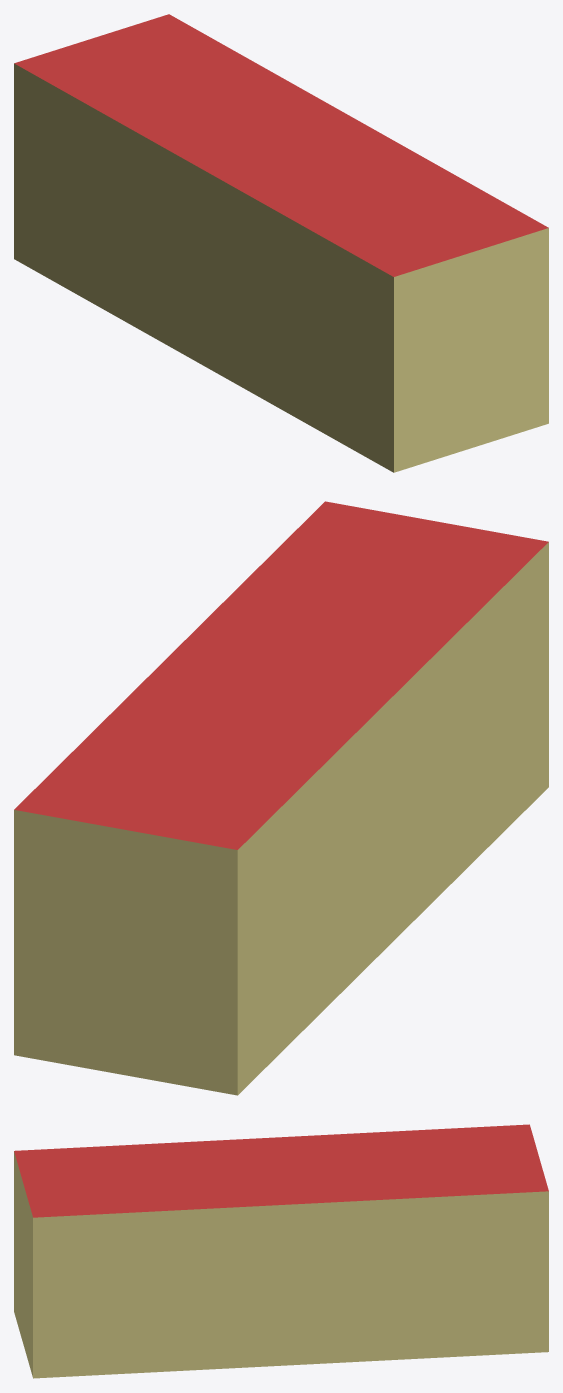
3 renders of one model, top to bottom at view 1: azimuth 30°, elevation 25°; view 2: azimuth 150°, elevation 25°; view 3: azimuth 270°, elevation 25°, orthographic. The views are drawn at different scales.
Bounding box in the file's own units: 7.66 × 18.57 × 6.16.
